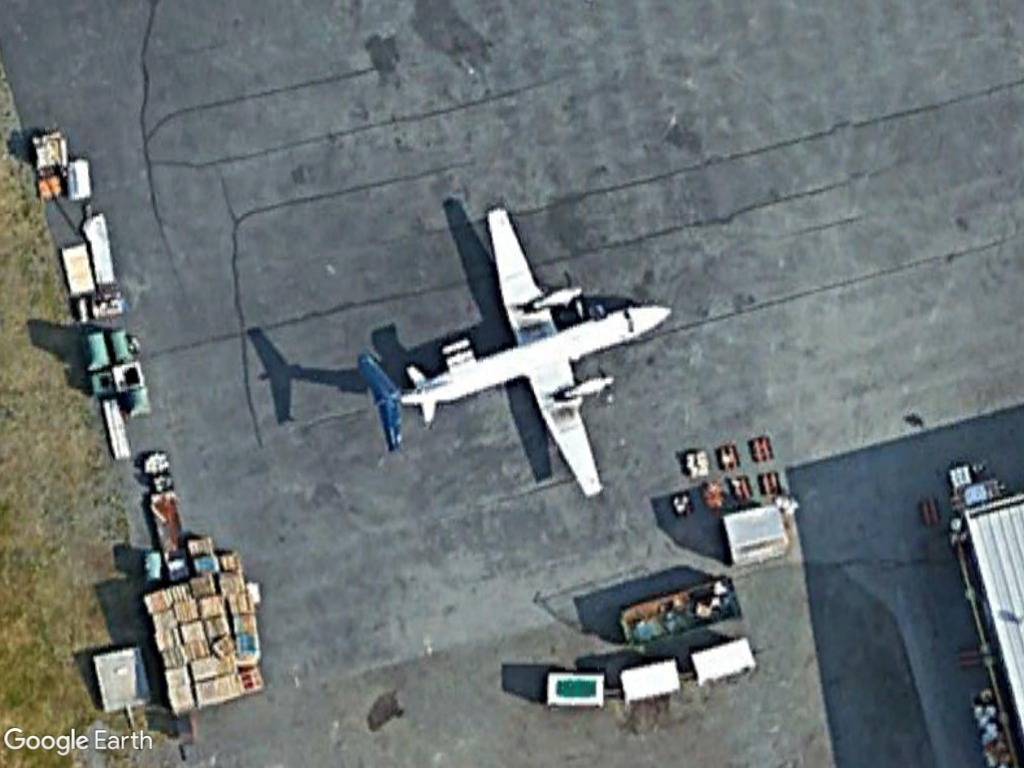propeller: (356, 198, 676, 500)
